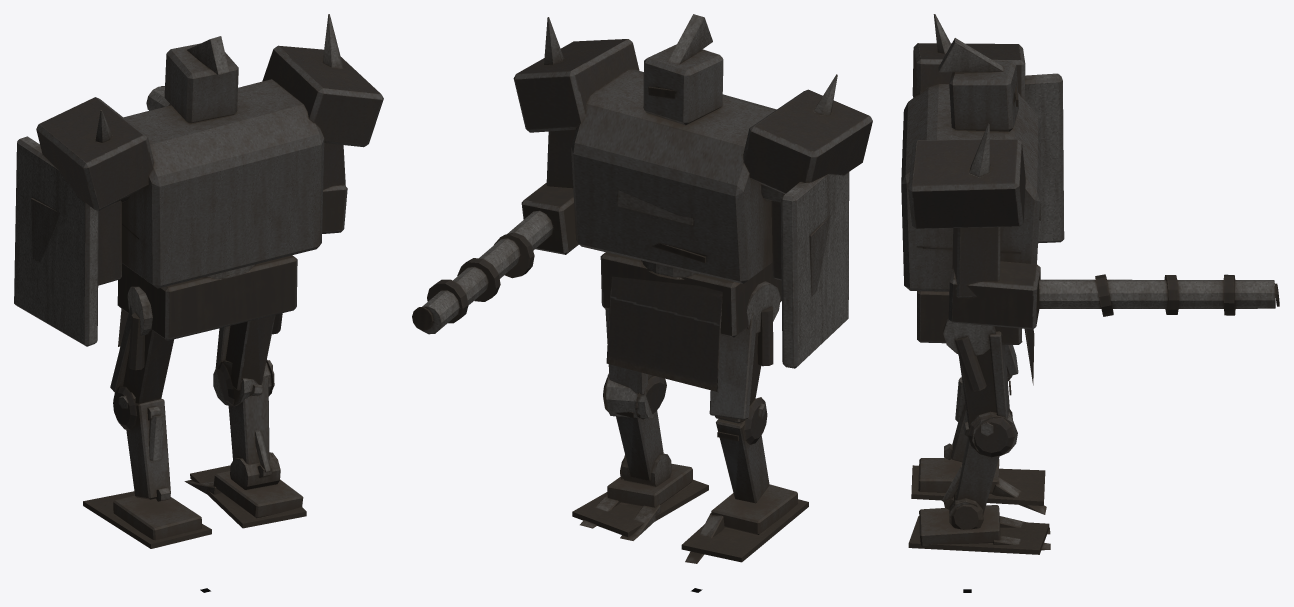
The model's file is chs_centurion_wreck.fbx.
3 renders of one model, left to right at view 1: azimuth 30°, elevation 25°; view 2: azimuth 150°, elevation 25°; view 3: azimuth 270°, elevation 25°, orthographic. The views are drawn at different scales.
Parts seen in each view (by area): view 1: torso_bar, base_bar, thighL_bar, thighR_bar, footL_bar, shinR_bar, footR_bar, shinL_bar; view 2: torso_bar, base_bar, thighL_bar, footL_bar, footR_bar, shinR_bar, shinL_bar, thighR_bar; view 3: torso_bar, thighR_bar, footR_bar, footL_bar, shinR_bar, base_bar, shinL_bar.
Boxes of the visible parts, left/top/right/bottom form: torso_bar: left=14, top=14, right=383, bottom=346; base_bar: left=117, top=255, right=297, bottom=346; thighL_bar: left=110, top=286, right=173, bottom=430; thighR_bar: left=213, top=313, right=282, bottom=406; footL_bar: left=83, top=491, right=211, bottom=548; shinR_bar: left=228, top=377, right=280, bottom=489; footR_bar: left=184, top=465, right=306, bottom=528; shinL_bar: left=126, top=398, right=170, bottom=501; torso_bar: left=412, top=14, right=872, bottom=368; base_bar: left=600, top=252, right=781, bottom=391; thighL_bar: left=709, top=281, right=780, bottom=444; footL_bar: left=681, top=484, right=808, bottom=563; footR_bar: left=572, top=463, right=708, bottom=540; shinR_bar: left=614, top=410, right=671, bottom=486; shinL_bar: left=716, top=419, right=769, bottom=503; thighR_bar: left=603, top=309, right=666, bottom=419; torso_bar: left=901, top=14, right=1279, bottom=329; thighR_bar: left=943, top=318, right=1017, bottom=457; footR_bar: left=908, top=505, right=1050, bottom=554; footL_bar: left=911, top=458, right=1046, bottom=514; shinR_bar: left=942, top=421, right=999, bottom=529; base_bar: left=917, top=291, right=1034, bottom=385; shinL_bar: left=944, top=377, right=1011, bottom=462.
Size of the model in its own units: 826 by 1454 by 901.
2 materials, 2 textured.
